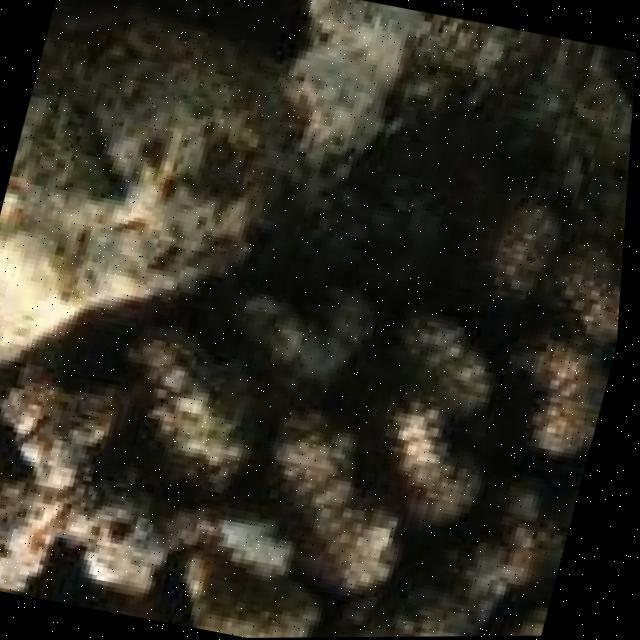Dead Coral: (25, 156, 627, 631)
